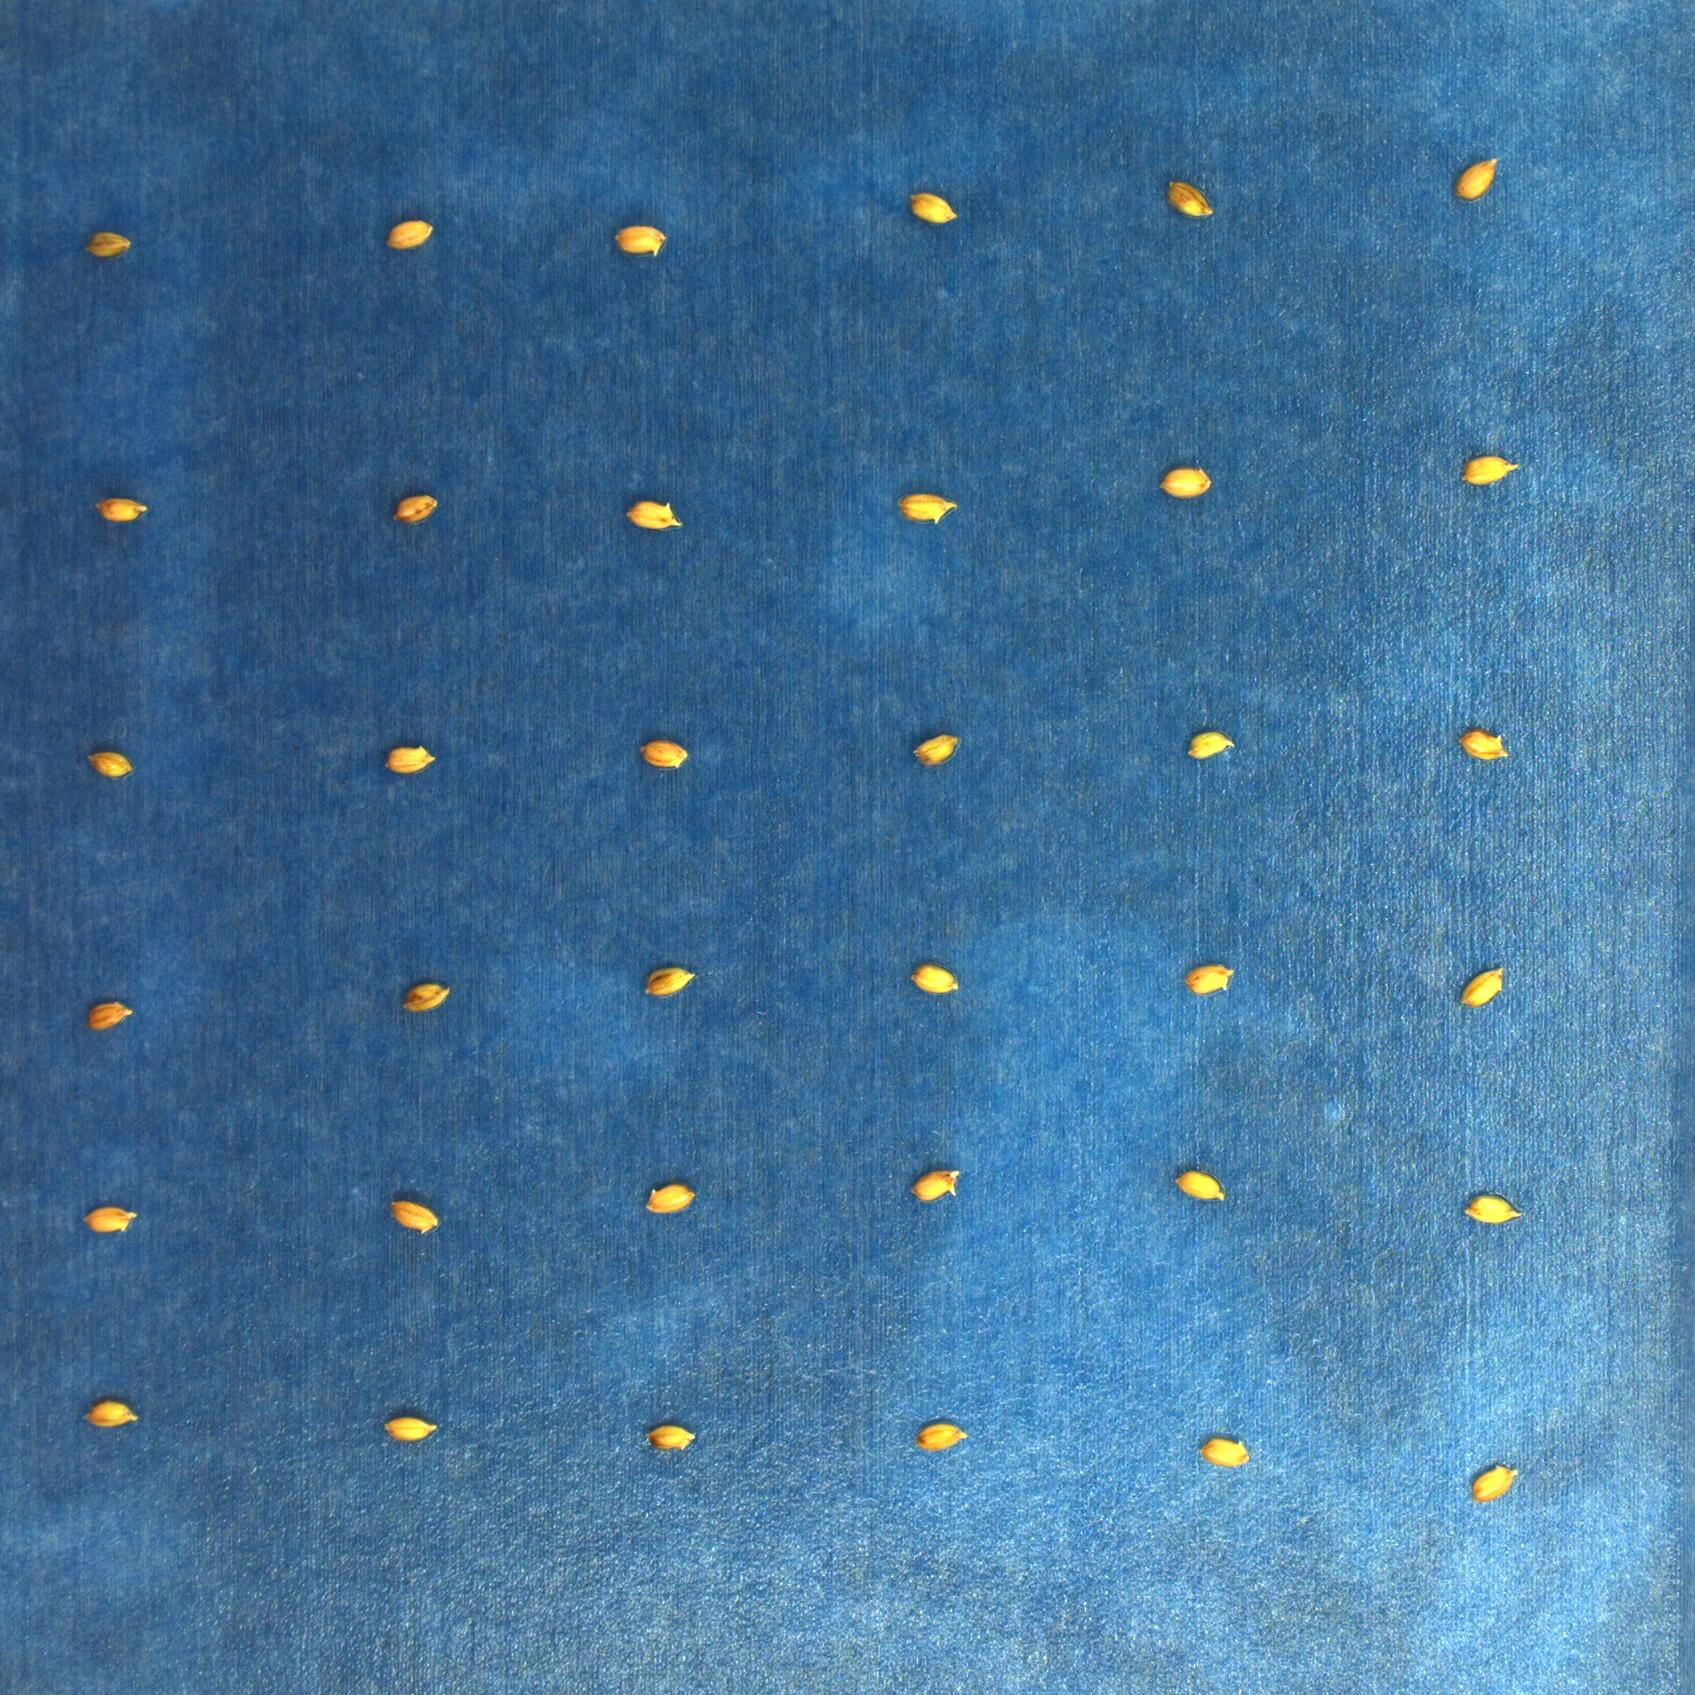not sprout: (1170, 1166, 1226, 1206), (382, 1194, 439, 1232), (1164, 175, 1217, 217), (1156, 463, 1215, 498), (1448, 157, 1496, 200), (896, 487, 956, 522), (640, 733, 688, 775), (622, 497, 681, 531), (81, 1201, 137, 1237), (914, 1419, 970, 1454), (1468, 1464, 1520, 1503), (81, 740, 133, 778), (643, 962, 695, 1000), (913, 731, 961, 771), (613, 219, 667, 255), (644, 1180, 698, 1215), (1464, 1194, 1523, 1226), (1458, 965, 1501, 1009), (910, 1170, 962, 1206), (1198, 1433, 1251, 1468), (92, 489, 151, 520), (376, 742, 435, 773), (910, 961, 961, 997), (910, 188, 958, 224), (1458, 452, 1518, 480), (380, 1414, 439, 1442), (379, 220, 436, 248), (82, 1399, 140, 1426), (1461, 726, 1509, 759), (1187, 962, 1236, 993), (386, 494, 439, 522), (644, 1420, 698, 1447), (1183, 731, 1236, 757), (404, 981, 449, 1010), (82, 230, 132, 256), (85, 1001, 133, 1028)
